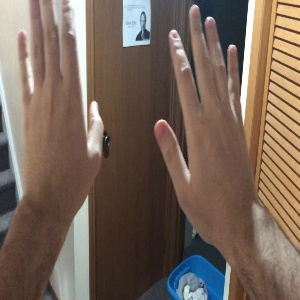hand: (153, 5, 259, 231), (16, 1, 102, 203)
